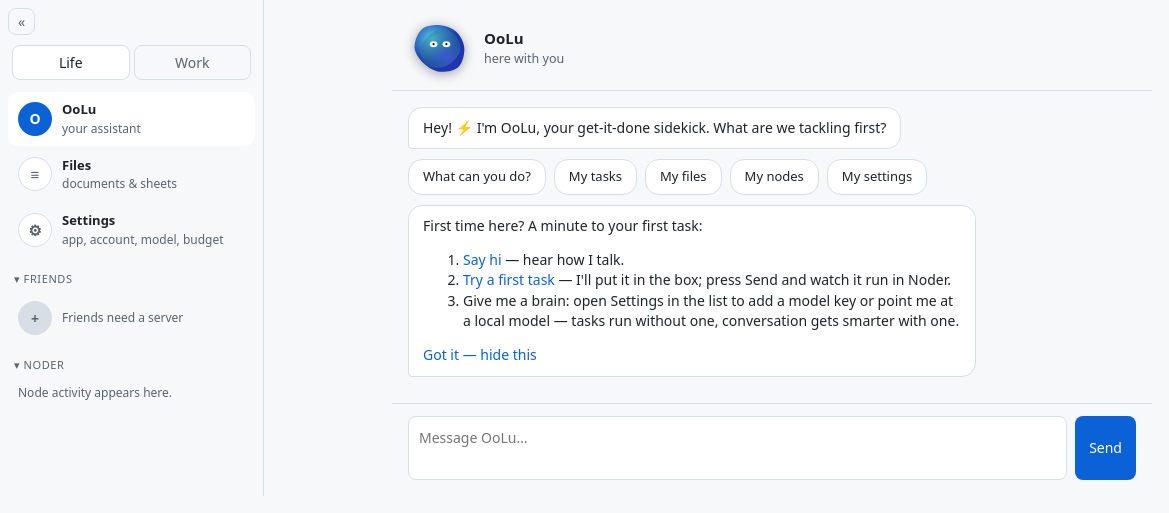
Scenario: the foldable list and the one-pane phone flow › folds the list for a wide conversation window, and remembers
Later steps or results of the test are not shown.
Step 1. Click the button named "Hide the list" → {"x": 22, "y": 22}, box x1=8 y1=8 x2=35 y2=35
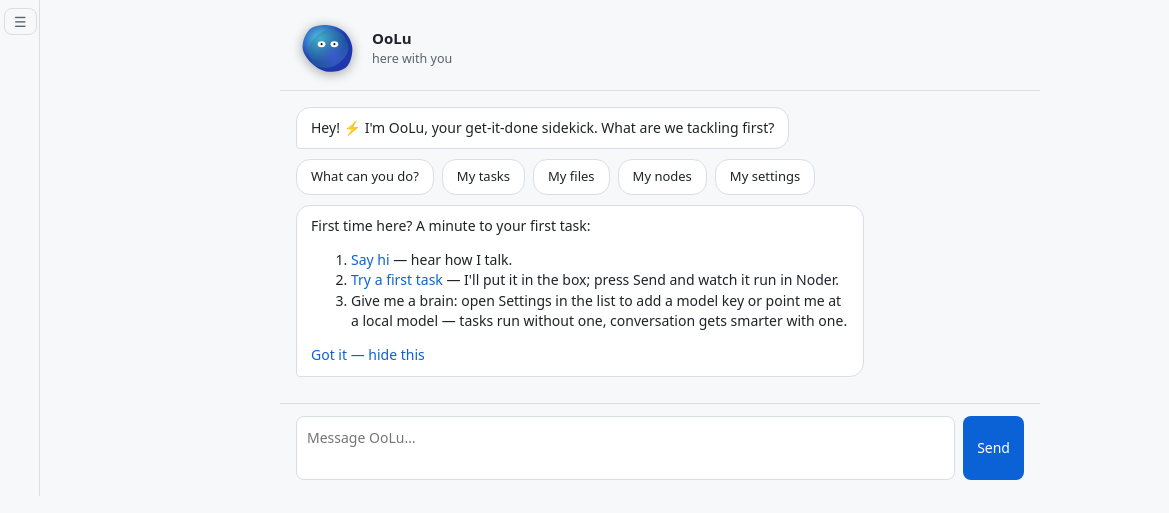
Expected: the element with class "life" has class "sidebar-folded"
